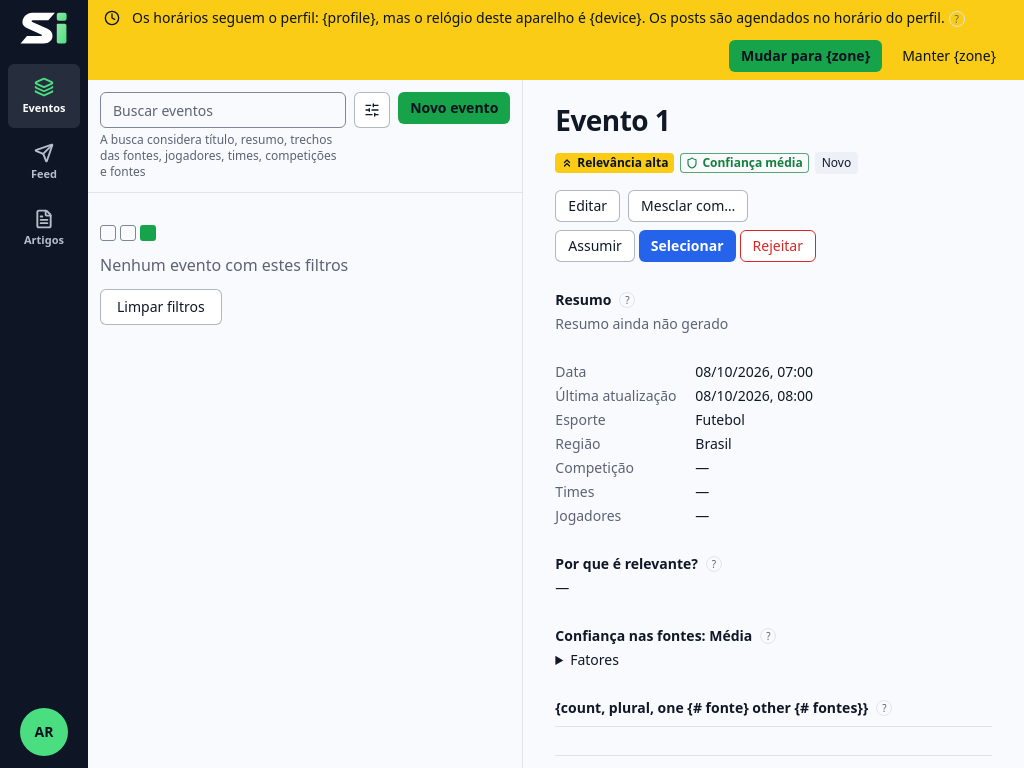
Test case: researcher on NEW sees Assumir/Selecionar/Rejeitar; selecting updates status
The image size is (1024, 768).
Click the button "Selecionar" at (687,246), box [639,230,736,262]
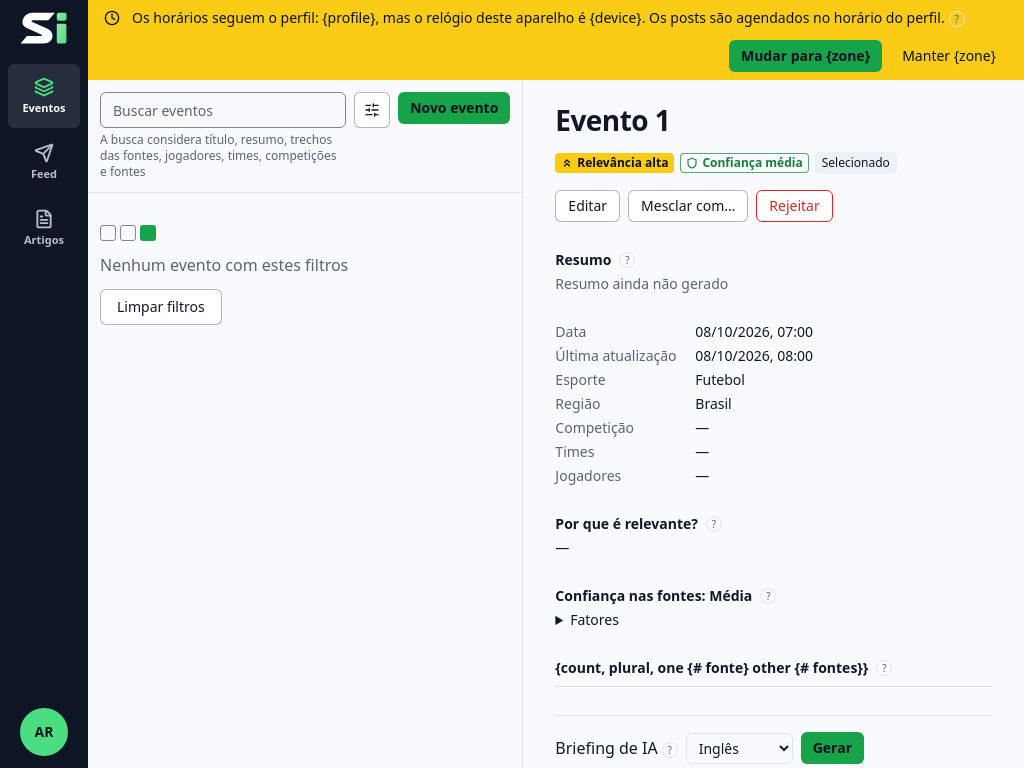
Now the header "Evento 1" shows "Selecionado", box [822,154,890,171]
